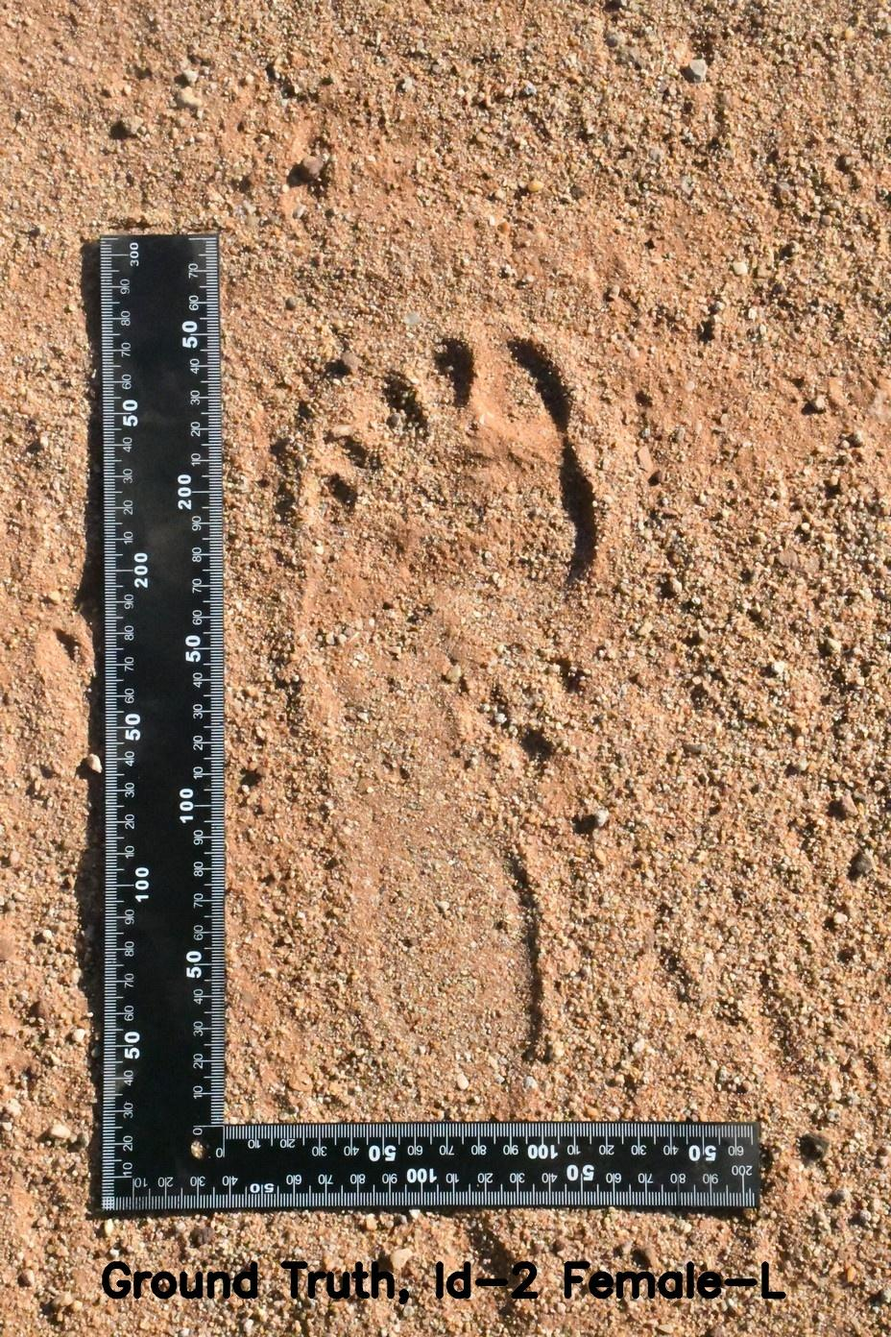human_footprint: (243, 286, 679, 1101)
